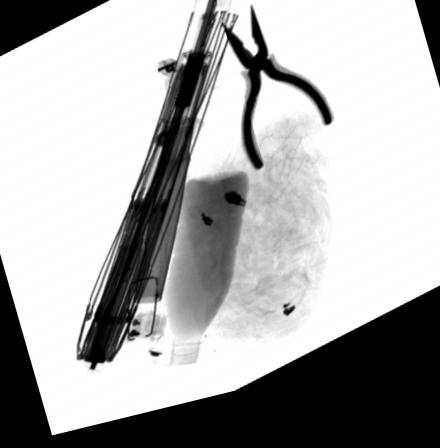Pliers: (220, 16, 335, 186)
